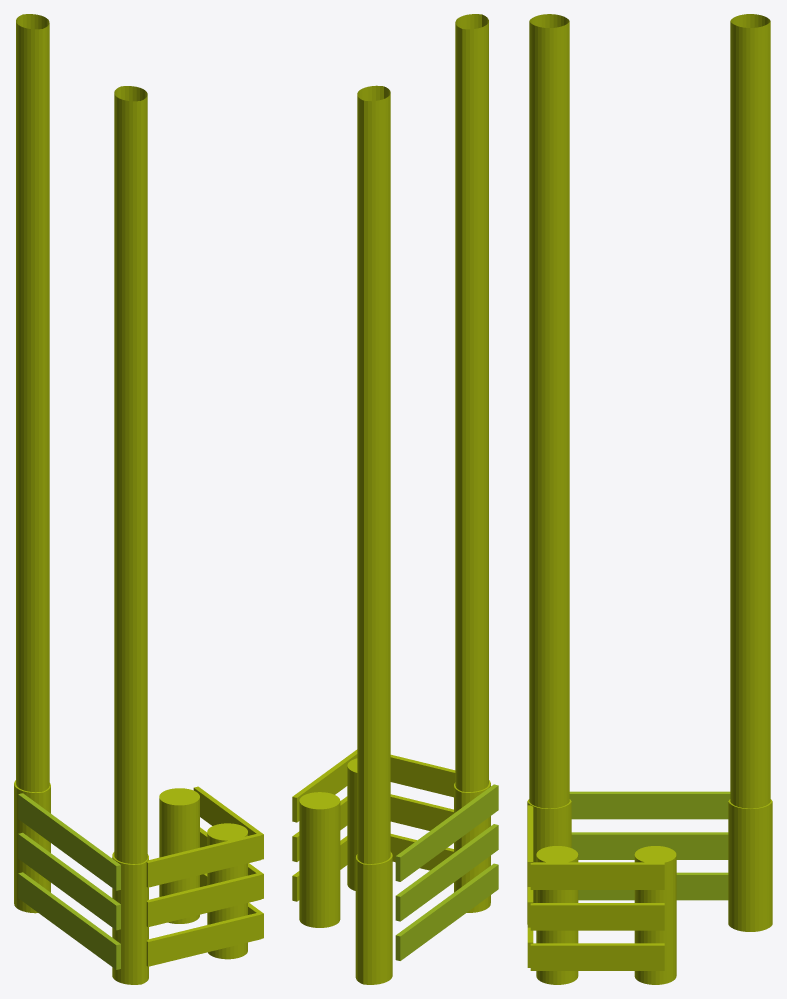
The model's file is airdoor_right.obj.
3 renders of one model, left to right at view 1: azimuth 30°, elevation 25°; view 2: azimuth 150°, elevation 25°; view 3: azimuth 270°, elevation 25°, orthographic. The views are drawn at different scales.
Bounding box in the file's own units: 0.3051 × 1.79 × 0.4398.
